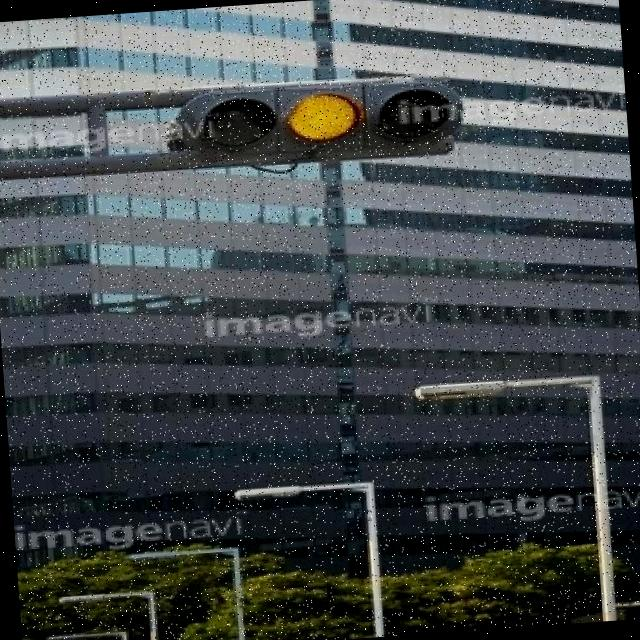yellow_light: (286, 74, 380, 157)
